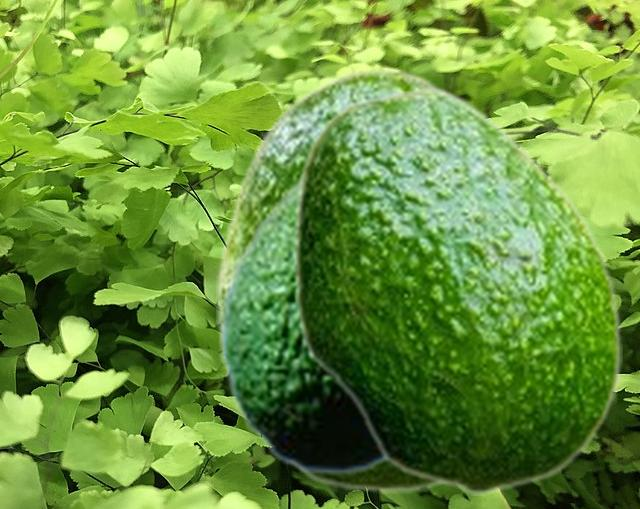avocado: (291, 84, 621, 494), (216, 67, 460, 492), (219, 91, 395, 475)
